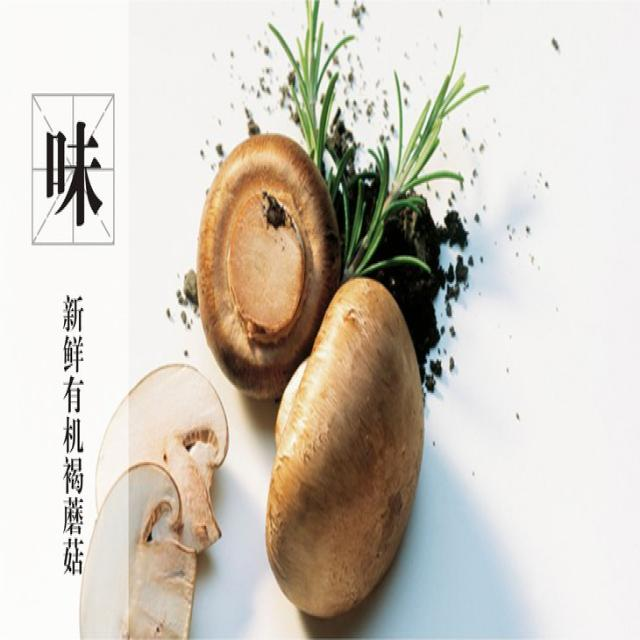Agaricus bisporus: (270, 278, 432, 626), (198, 138, 336, 386)
